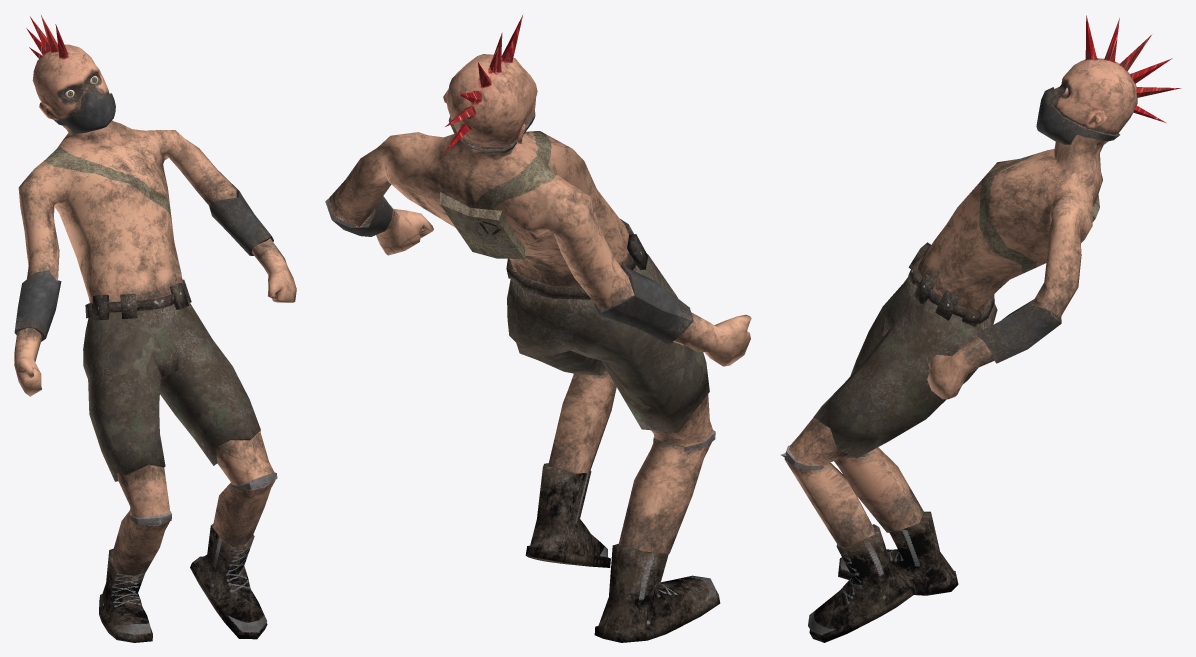
The model's file is Anim_morir_1_npc2.0025.obj.
3 views of the same model, side by side, from view 1: azimuth 30°, elevation 25°; view 2: azimuth 150°, elevation 25°; view 3: azimuth 270°, elevation 25° (orthographic). The views are drawn at different scales.
Parts seen in each view (by area): view 1: polySurface1; view 2: polySurface1; view 3: polySurface1.
Part boxes in pixels (left/top/right/bottom): polySurface1: left=14, top=15, right=296, bottom=642; polySurface1: left=325, top=15, right=751, bottom=642; polySurface1: left=780, top=15, right=1181, bottom=642.
Size of the model in its own units: 4.76 by 8.7 by 5.41.
2 materials, 2 textured.
